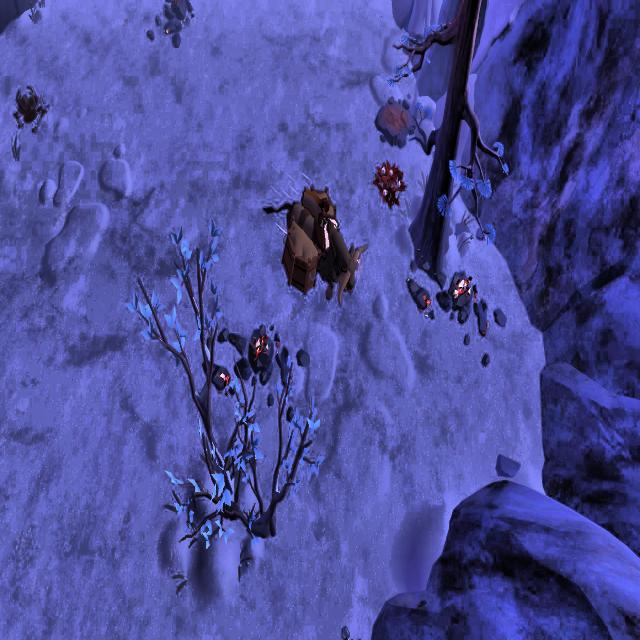fiber_t5: (374, 157, 408, 216)
